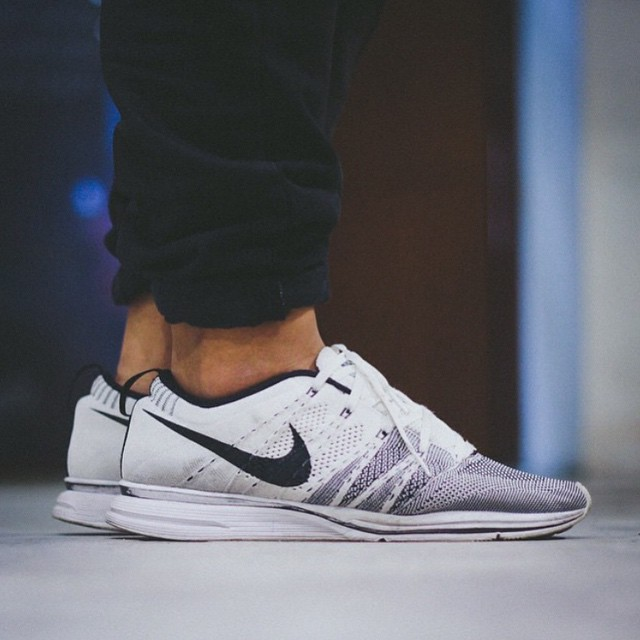sneaker: (103, 335, 606, 565), (38, 283, 176, 551)
